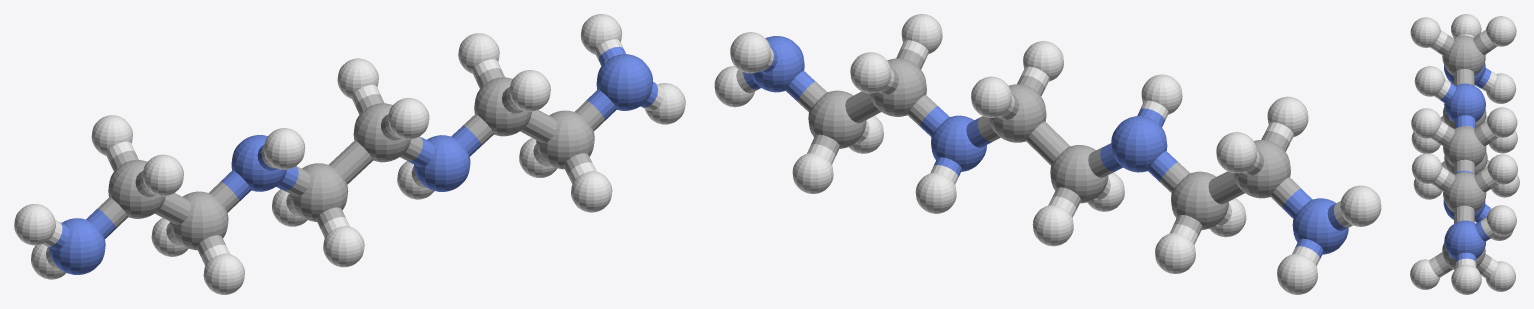
The model's file is TRIETHYLENETETRAMINE.fbx.
3 renders of one model, left to right at view 1: azimuth 30°, elevation 25°; view 2: azimuth 150°, elevation 25°; view 3: azimuth 270°, elevation 25°, orthographic. The views are drawn at different scales.
Parts seen in each view (by area): view 1: ShapeSphere.002, ShapeSphere.003, ShapeSphere, ShapeSphere.007, ShapeSphere.008, ShapeSphere.005, ShapeSphere.006, ShapeSphere.004, ShapeSphere.009, ShapeSphere.001, ShapeSphere.010, ShapeSphere.023 (+27 smaller); view 2: ShapeSphere.001, ShapeSphere.008, ShapeSphere.005, ShapeSphere.007, ShapeSphere, ShapeSphere.006, ShapeSphere.004, ShapeSphere.003, ShapeSphere.009, ShapeSphere.002, ShapeSphere.027, ShapeSphere.017 (+27 smaller); view 3: ShapeSphere.004, ShapeSphere.009, ShapeSphere.006, ShapeSphere.002, ShapeSphere.001, ShapeSphere.025, ShapeSphere.016, ShapeSphere.024, ShapeSphere.022, ShapeSphere.017, ShapeSphere.015, ShapeSphere.011 (+45 smaller).
Part boxes in pixels (left/top/right/bottom): ShapeSphere.002: left=596, top=54, right=652, bottom=110; ShapeSphere.003: left=49, top=218, right=105, bottom=274; ShapeSphere: left=414, top=135, right=470, bottom=191; ShapeSphere.007: left=170, top=191, right=228, bottom=250; ShapeSphere.008: left=536, top=110, right=594, bottom=169; ShapeSphere.005: left=289, top=163, right=348, bottom=221; ShapeSphere.006: left=474, top=77, right=531, bottom=136; ShapeSphere.004: left=353, top=103, right=411, bottom=162; ShapeSphere.009: left=108, top=160, right=165, bottom=218; ShapeSphere.001: left=231, top=135, right=286, bottom=191; ShapeSphere.010: left=388, top=98, right=429, bottom=139; ShapeSphere.023: left=142, top=154, right=183, bottom=196; ShapeSphere.001: left=1111, top=116, right=1167, bottom=172; ShapeSphere.008: left=808, top=90, right=866, bottom=148; ShapeSphere.005: left=1050, top=145, right=1108, bottom=203; ShapeSphere.007: left=1171, top=171, right=1228, bottom=229; ShapeSphere: left=931, top=115, right=986, bottom=171; ShapeSphere.006: left=869, top=58, right=926, bottom=116; ShapeSphere.004: left=989, top=84, right=1046, bottom=142; ShapeSphere.003: left=1292, top=198, right=1348, bottom=254; ShapeSphere.009: left=1233, top=140, right=1290, bottom=198; ShapeSphere.002: left=750, top=36, right=804, bottom=92; ShapeSphere.027: left=1340, top=185, right=1381, bottom=226; ShapeSphere.017: left=850, top=52, right=891, bottom=93; ShapeSphere.004: left=1443, top=126, right=1486, bottom=166; ShapeSphere.009: left=1442, top=35, right=1485, bottom=75; ShapeSphere.006: left=1443, top=172, right=1486, bottom=212; ShapeSphere.002: left=1444, top=220, right=1486, bottom=259; ShapeSphere.001: left=1444, top=83, right=1485, bottom=122; ShapeSphere.025: left=1451, top=264, right=1481, bottom=294; ShapeSphere.016: left=1411, top=153, right=1442, bottom=183; ShapeSphere.024: left=1486, top=205, right=1516, bottom=235; ShapeSphere.022: left=1486, top=16, right=1516, bottom=46; ShapeSphere.017: left=1487, top=154, right=1517, bottom=184; ShapeSphere.015: left=1414, top=66, right=1445, bottom=96; ShapeSphere.011: left=1487, top=107, right=1517, bottom=137.
Bounding box in the file's own units: 1327 × 310 × 258.
